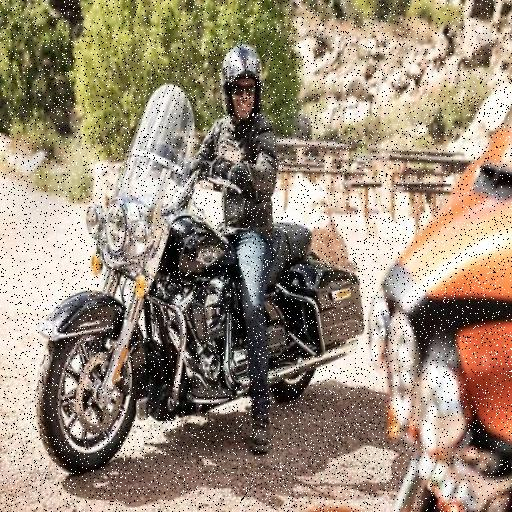Helmet: (216, 50, 262, 124)
Motor: (57, 188, 351, 465)
